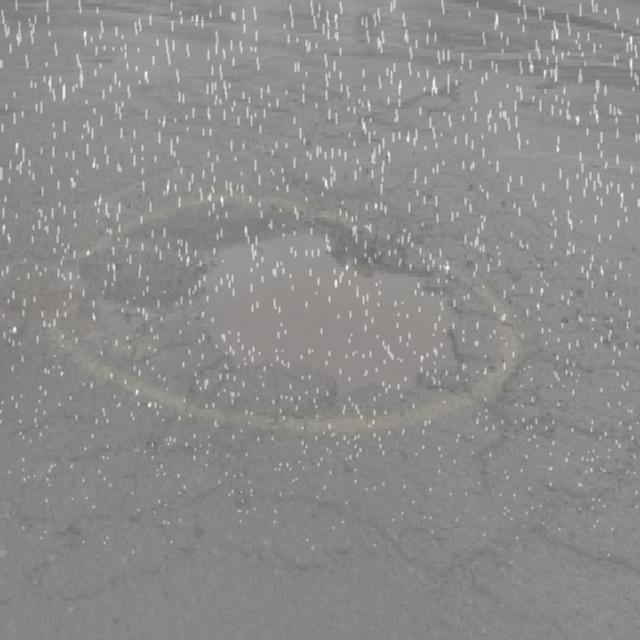Pothole: (57, 188, 482, 404)
